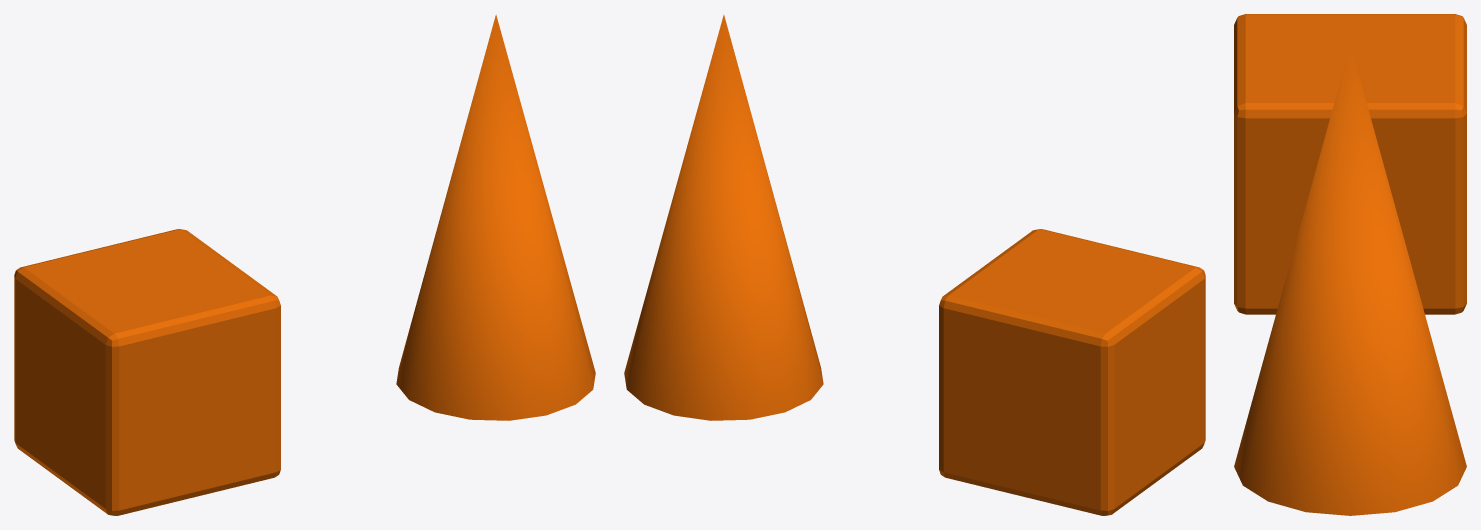
File: test-with-lights-002.gltf
3 views of the same model, side by side, from view 1: azimuth 30°, elevation 25°; view 2: azimuth 150°, elevation 25°; view 3: azimuth 270°, elevation 25° (orthographic). The views are drawn at different scales.
Parts seen in each view (by area): view 1: Cube, Cone; view 2: Cube, Cone; view 3: Cone, Cube.
Boxes of the visible parts, box(x1,y1,x2,y2) form: Cube: box(14, 229, 280, 515); Cone: box(396, 14, 595, 420); Cube: box(939, 229, 1205, 515); Cone: box(624, 14, 823, 420); Cone: box(1234, 44, 1466, 515); Cube: box(1234, 14, 1466, 314).
Size of what is drawn, in the model's own units: 1.5 by 1 by 0.5.
